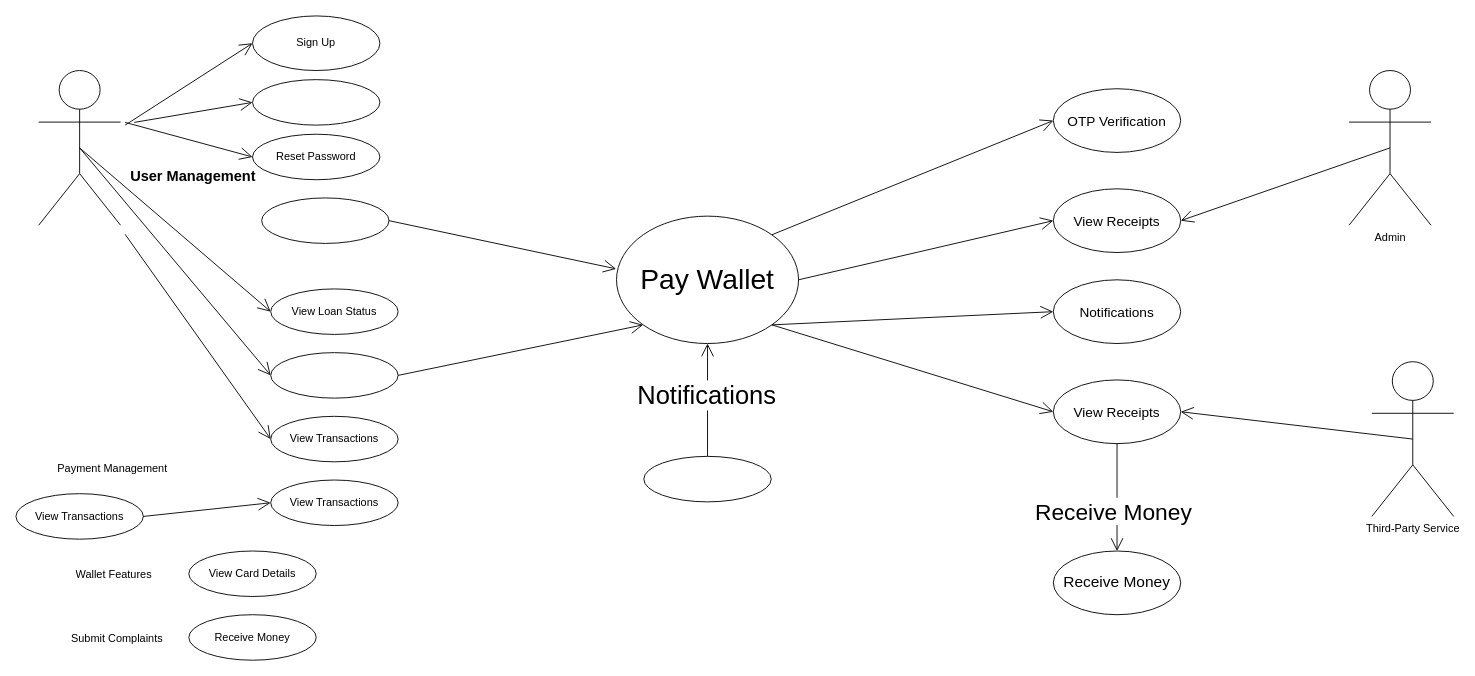
Image size: 1475x676. Some labels were removed from this diagram. Here are the shapes that lost their labels. From the top down, the centre of each, then its label:
At point 316,102: "Fingerrint Anthentication".
At point 79,147: "User".
At point 325,220: "Apply For Loan".
At point 334,375: "Make Payment".
At point 707,478: "Receive Alerts".
